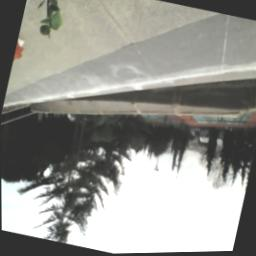herb: (29, 1, 69, 45)
